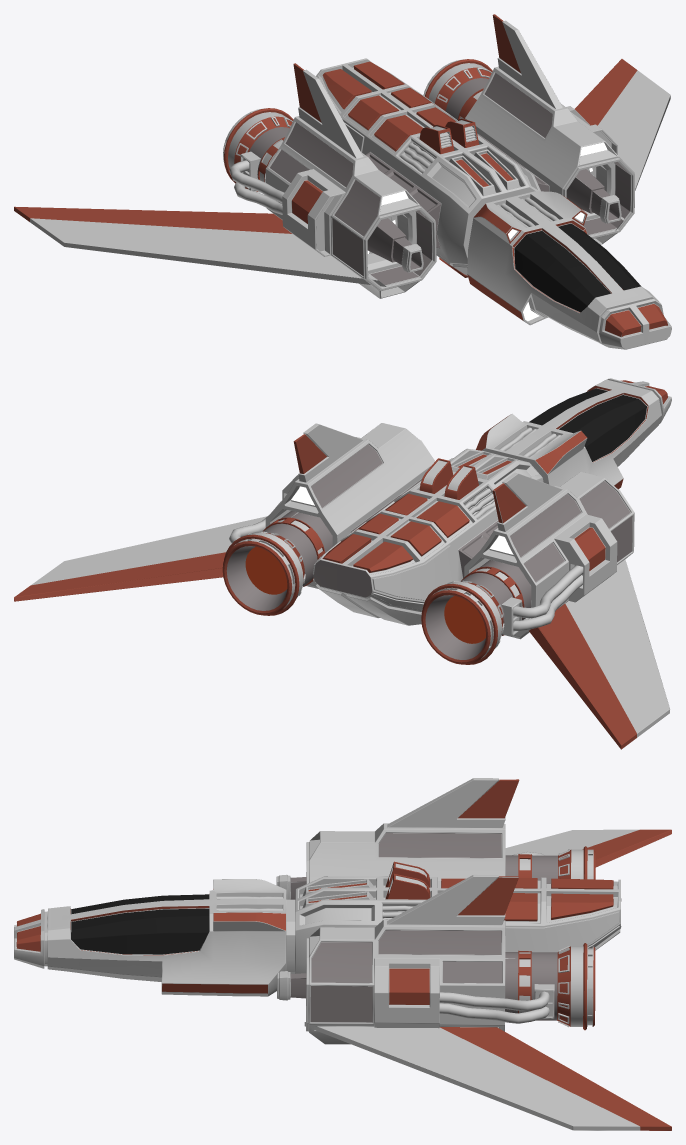
File: vaisseau3D.fbx
The picture shows the model from 3 angles, top to bottom: view 1: azimuth 30°, elevation 25°; view 2: azimuth 150°, elevation 25°; view 3: azimuth 270°, elevation 25°; orthographic projection.
Parts seen in each view (by area): view 1: Starship, Starship.001, Starship.003; view 2: Starship, Starship.001, Starship.003; view 3: Starship, Starship.003, Starship.001.
Part boxes in pixels (x1=…): Starship: x1=223, y1=14, x2=671, y2=349; Starship.001: x1=14, y1=206, x2=386, y2=286; Starship.003: x1=575, y1=59, x2=670, y2=231; Starship: x1=222, y1=378, x2=671, y2=664; Starship.001: x1=529, y1=559, x2=669, y2=749; Starship.003: x1=14, y1=516, x2=266, y2=601; Starship: x1=14, y1=778, x2=621, y2=1044; Starship.003: x1=304, y1=1022, x2=671, y2=1130; Starship.001: x1=505, y1=829, x2=671, y2=867.
Bounding box in the file's own units: 2533 × 656 × 2372.
